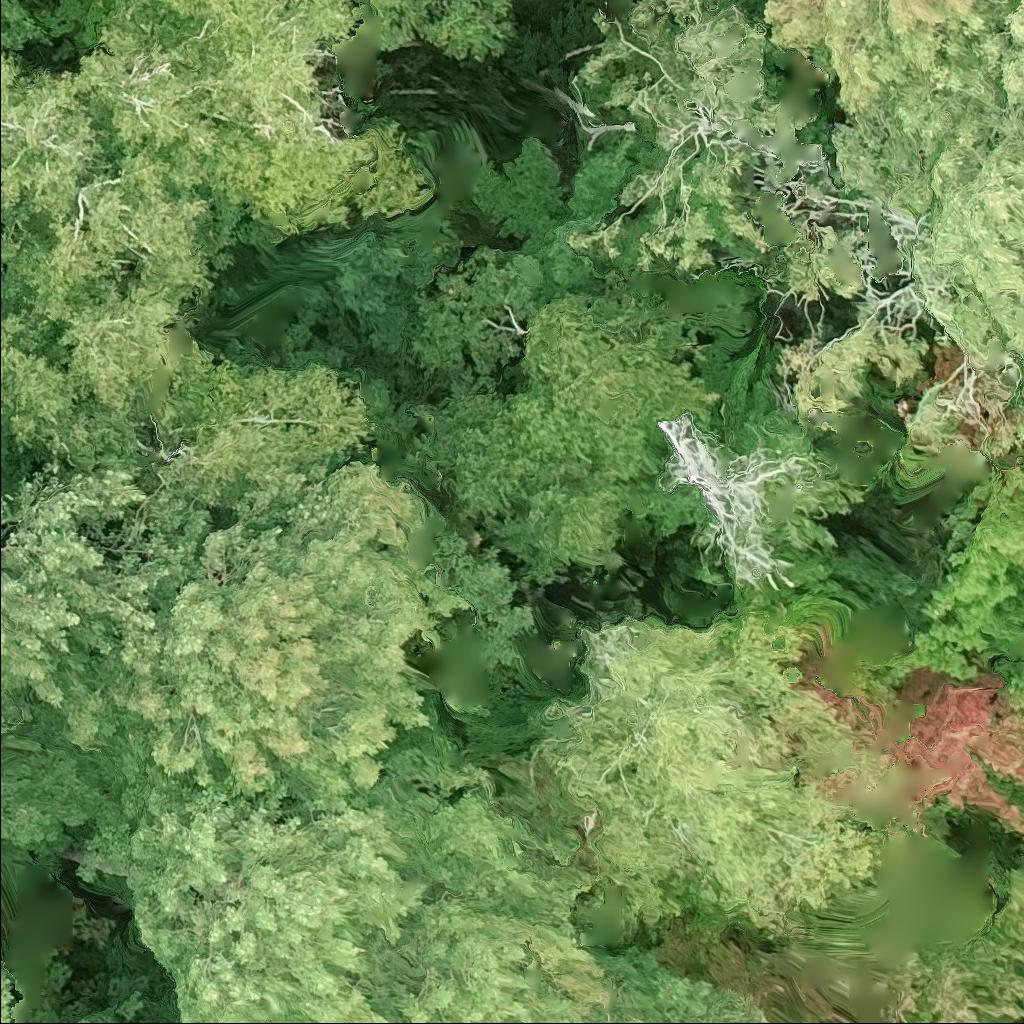crown: (103, 459, 477, 817), (73, 762, 435, 1023), (0, 453, 218, 874), (73, 0, 378, 232), (0, 45, 243, 323), (150, 349, 379, 522), (0, 275, 180, 488), (0, 954, 14, 1023), (0, 522, 7, 532)
